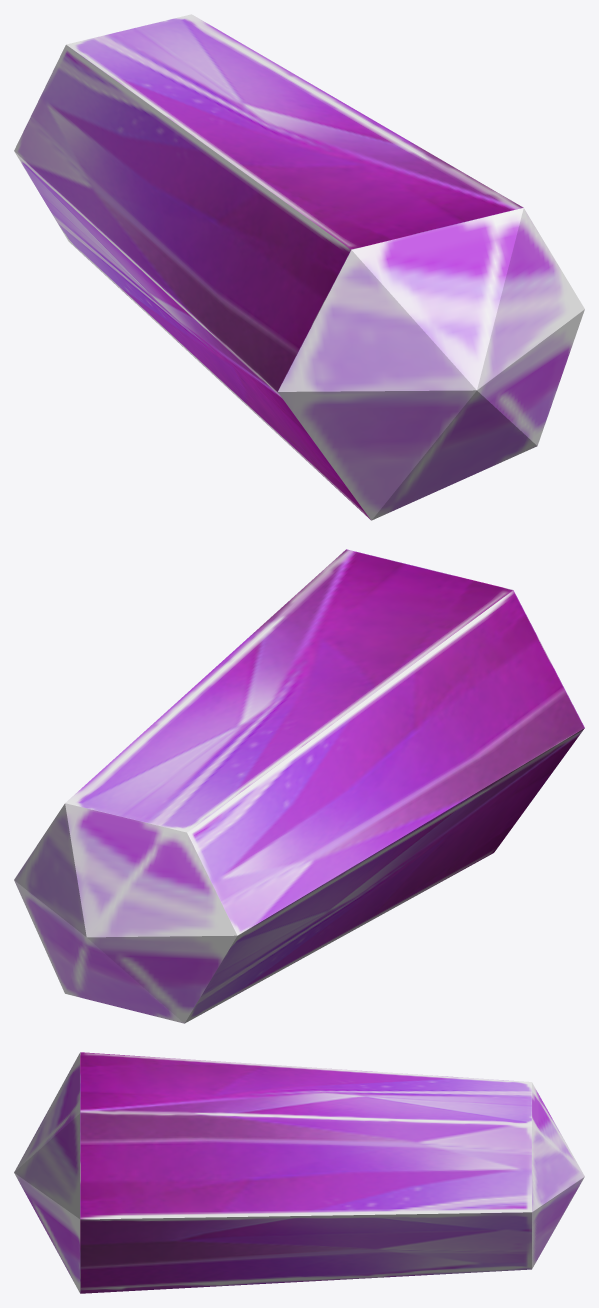
Rendered from Crystal_Sml_B_01.FBX.
The picture shows the model from 3 angles, top to bottom: view 1: azimuth 30°, elevation 25°; view 2: azimuth 150°, elevation 25°; view 3: azimuth 270°, elevation 25°; orthographic projection. The views are drawn at different scales.
Parts seen in each view (by area): view 1: Crystal_Sml_B_01; view 2: Crystal_Sml_B_01; view 3: Crystal_Sml_B_01.
Part boxes in pixels (left/top/right/bottom): Crystal_Sml_B_01: left=14, top=14, right=584, bottom=520; Crystal_Sml_B_01: left=14, top=549, right=584, bottom=1023; Crystal_Sml_B_01: left=14, top=1052, right=584, bottom=1293.
Size of the model in its own units: 33.24 by 28.51 by 73.66.
